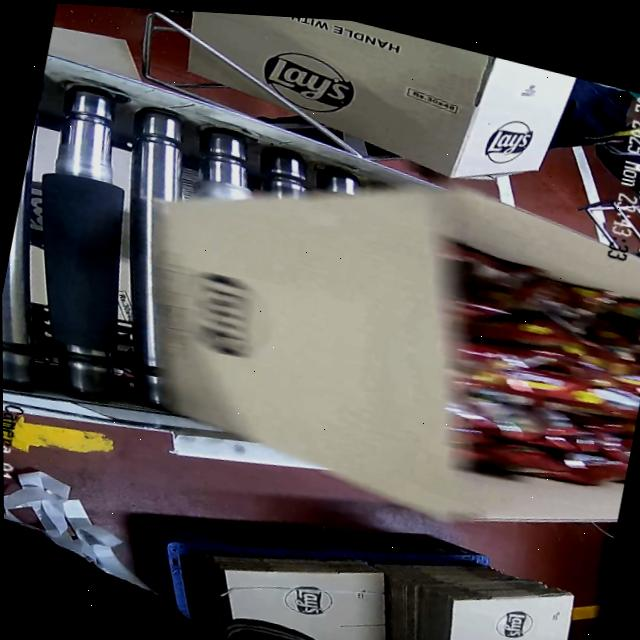MASALA: (407, 248, 640, 503)
